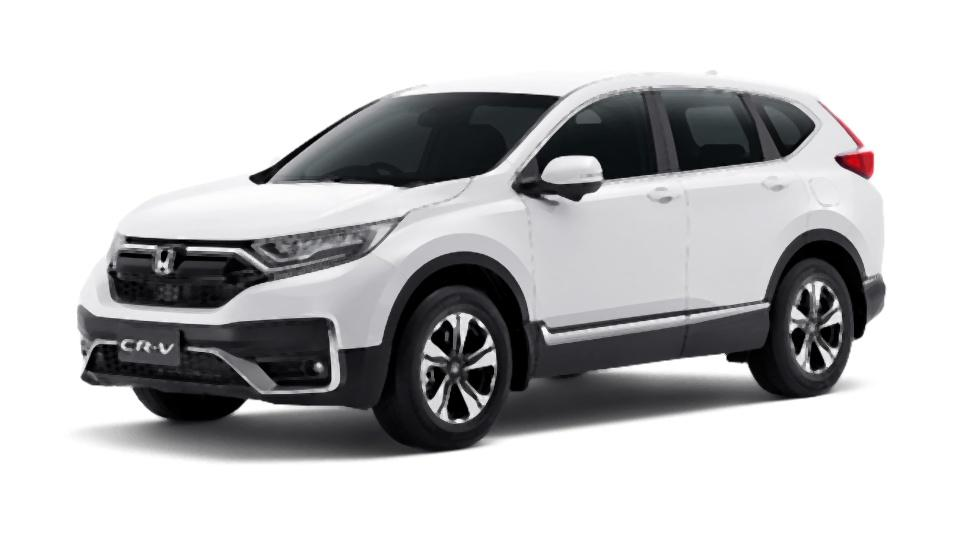Car hood: (113, 174, 471, 247)
Fender - -F-L-: (367, 166, 530, 350)
Fender - -R-L-: (778, 92, 892, 268)
Front bumper: (75, 247, 420, 402)
Headlight - -L-: (241, 214, 407, 281)
Passenger-s door - -F-L-: (521, 74, 696, 380)
Passenger-s door - -R-L-: (648, 63, 799, 380)
Side bumper - -R-: (529, 273, 779, 389)
